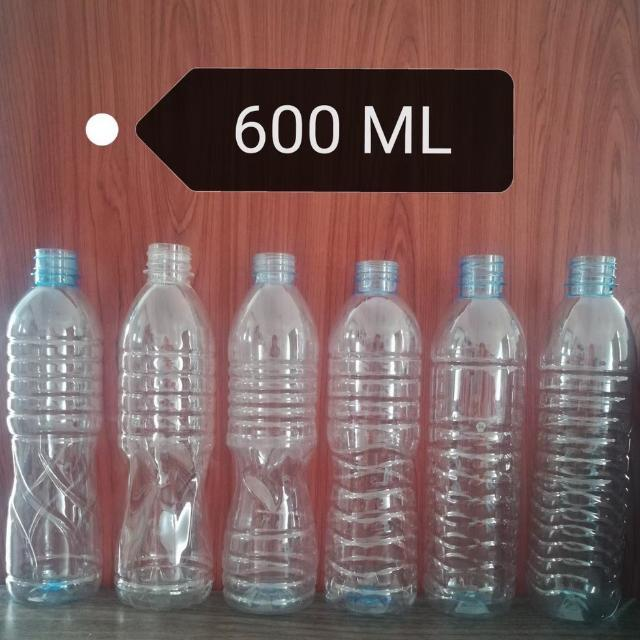PET Bottle: (525, 246, 640, 636), (314, 252, 424, 616), (4, 236, 110, 612), (223, 238, 321, 627), (118, 234, 214, 626), (431, 246, 515, 626)
